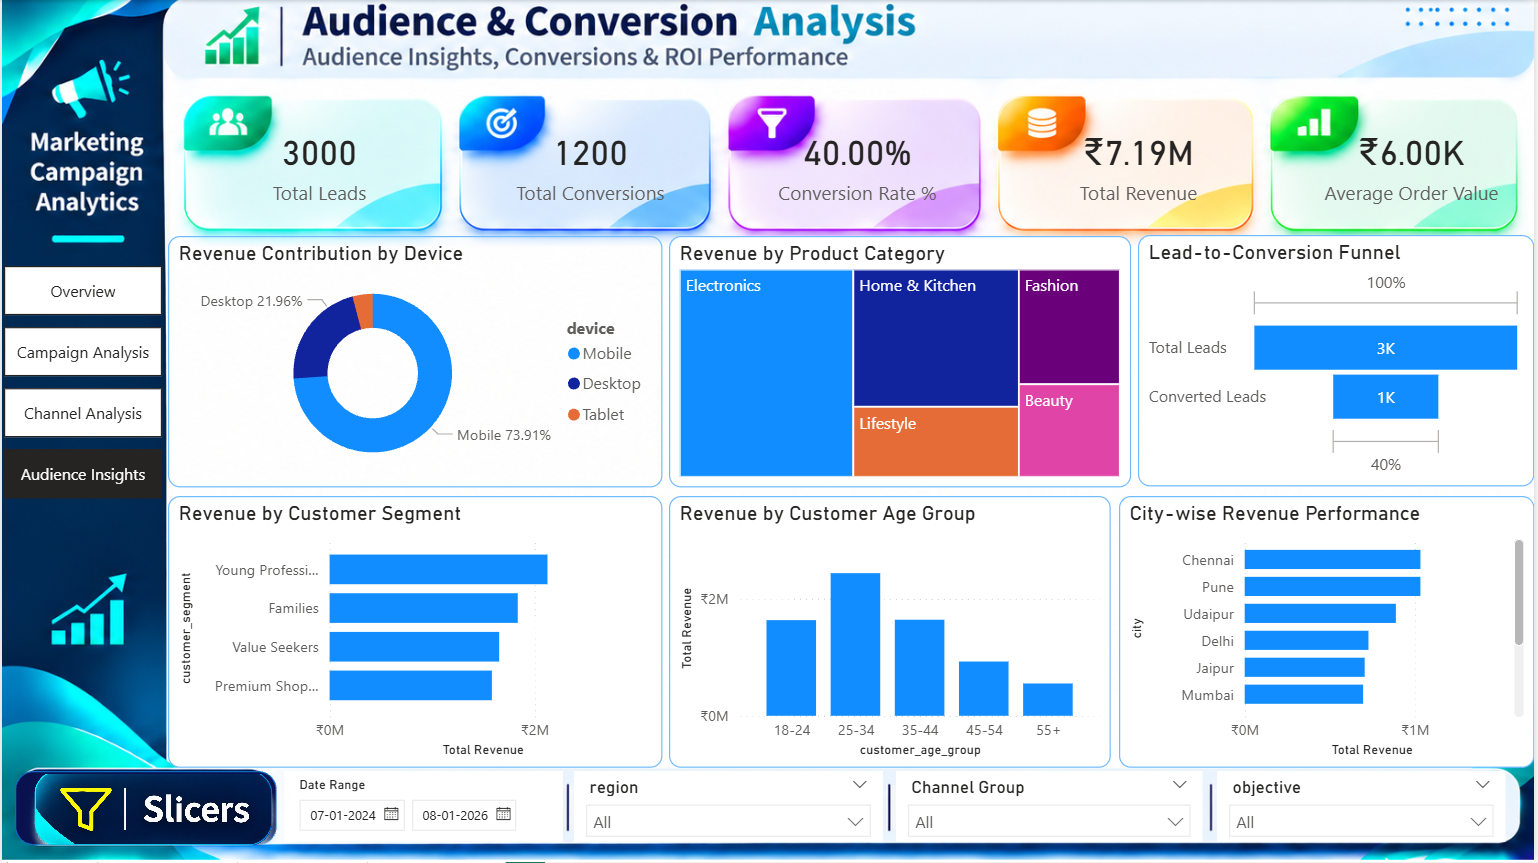

What the dashboard file says about the page in this screenshot:
{"tool":"powerbi","page":{"name":"Audience Insights","canvas":[1280,720],"ordinal":3},"visuals":[{"type":"card","fields":{"Values":["_Measures.Average Order Value"]},"box":[1094.5,92.3,166.3,88.6],"z":0},{"type":"card","fields":{"Values":["_Measures.Total Revenue"]},"box":[866.1,92.3,166.3,88.6],"z":1000},{"type":"card","fields":{"Values":["_Measures.Conversion Rate %"]},"box":[631.3,92.3,166.3,88.6],"z":2000},{"type":"card","fields":{"Values":["_Measures.Total Conversions"]},"box":[408.4,92.3,166.3,88.6],"z":3000},{"type":"card","fields":{"Values":["_Measures.Total Leads"]},"box":[181.8,92.3,166.3,88.6],"z":4000},{"type":"funnel","title":"Lead-to-Conversion Funnel","fields":{"Category":["Funnel Stages.Stage"],"Y":["Funnel Stages.Funnel Stage Count"]},"box":[949.3,196.4,330.7,210.1],"z":5000},{"type":"treemap","title":"Revenue by Product Category","fields":{"Group":["marketing_campaigns conversions.product_category"],"Values":["_Measures.Total Revenue"]},"box":[557.3,197.3,385.6,210.1],"z":6000},{"type":"clusteredBarChart","title":"Revenue by Customer Segment","fields":{"Category":["marketing_campaigns leads.customer_segment"],"Y":["_Measures.Total Revenue"]},"box":[138.9,413.9,413,226.6],"z":7000},{"type":"clusteredColumnChart","title":"Revenue by Customer Age Group","fields":{"Category":["marketing_campaigns leads.customer_age_group"],"Y":["_Measures.Total Revenue"]},"box":[557.3,413.9,369.1,226.6],"z":8000},{"type":"clusteredBarChart","title":"\tCity-wise Revenue Performance","fields":{"Category":["marketing_campaigns leads.city"],"Y":["_Measures.Total Revenue"]},"box":[932.8,413.9,347.2,226.6],"z":9000},{"type":"donutChart","title":"Revenue Contribution by Device","fields":{"Category":["marketing_campaigns leads.device"],"Y":["_Measures.Total Revenue"]},"box":[139,197,413,210],"z":10000},{"type":"pageNavigator","box":[1.8,222,132.5,195.5],"z":11000},{"type":"slicer","fields":{"Values":["marketing_campaigns marketing_channels.Channel Group"]},"box":[746.8,643.8,256.2,58.6],"z":12000},{"type":"slicer","fields":{"Values":["marketing_campaigns campaigns.region"]},"box":[478,643.8,257.9,58.6],"z":13000},{"type":"slicer","fields":{"Values":["DimDate.Date"]},"box":[235.3,643.8,232.7,58.6],"z":14000},{"type":"slicer","fields":{"Values":["marketing_campaigns campaigns.objective"]},"box":[1014.7,643.8,241.1,58.6],"z":15000},{"type":"shape","box":[10.9,643.8,218.5,62],"z":16000},{"type":"image","box":[0,646.3,252.8,59.4],"z":17000}]}

Visuals, with their boxes on the page's 1280x720 design canvas (x1, y1, x2, y2). These are canvas units, not pixel positions in the 1538x863 screenshot, which may show the page scaled, cropped or inside an application window:
card - _Measures.Average Order Value: {"x1": 1094, "y1": 92, "x2": 1261, "y2": 181}
card - _Measures.Total Revenue: {"x1": 866, "y1": 92, "x2": 1032, "y2": 181}
card - _Measures.Conversion Rate %: {"x1": 631, "y1": 92, "x2": 798, "y2": 181}
card - _Measures.Total Conversions: {"x1": 408, "y1": 92, "x2": 575, "y2": 181}
card - _Measures.Total Leads: {"x1": 182, "y1": 92, "x2": 348, "y2": 181}
"Lead-to-Conversion Funnel" funnel: {"x1": 949, "y1": 196, "x2": 1280, "y2": 406}
"Revenue by Product Category" treemap: {"x1": 557, "y1": 197, "x2": 943, "y2": 407}
"Revenue by Customer Segment" clusteredBarChart: {"x1": 139, "y1": 414, "x2": 552, "y2": 640}
"Revenue by Customer Age Group" clusteredColumnChart: {"x1": 557, "y1": 414, "x2": 926, "y2": 640}
"	City-wise Revenue Performance" clusteredBarChart: {"x1": 933, "y1": 414, "x2": 1280, "y2": 640}
"Revenue Contribution by Device" donutChart: {"x1": 139, "y1": 197, "x2": 552, "y2": 407}
pageNavigator: {"x1": 2, "y1": 222, "x2": 134, "y2": 418}
slicer - marketing_campaigns marketing_channels.Channel Group: {"x1": 747, "y1": 644, "x2": 1003, "y2": 702}
slicer - marketing_campaigns campaigns.region: {"x1": 478, "y1": 644, "x2": 736, "y2": 702}
slicer - DimDate.Date: {"x1": 235, "y1": 644, "x2": 468, "y2": 702}
slicer - marketing_campaigns campaigns.objective: {"x1": 1015, "y1": 644, "x2": 1256, "y2": 702}
shape: {"x1": 11, "y1": 644, "x2": 229, "y2": 706}
image: {"x1": 0, "y1": 646, "x2": 253, "y2": 706}
